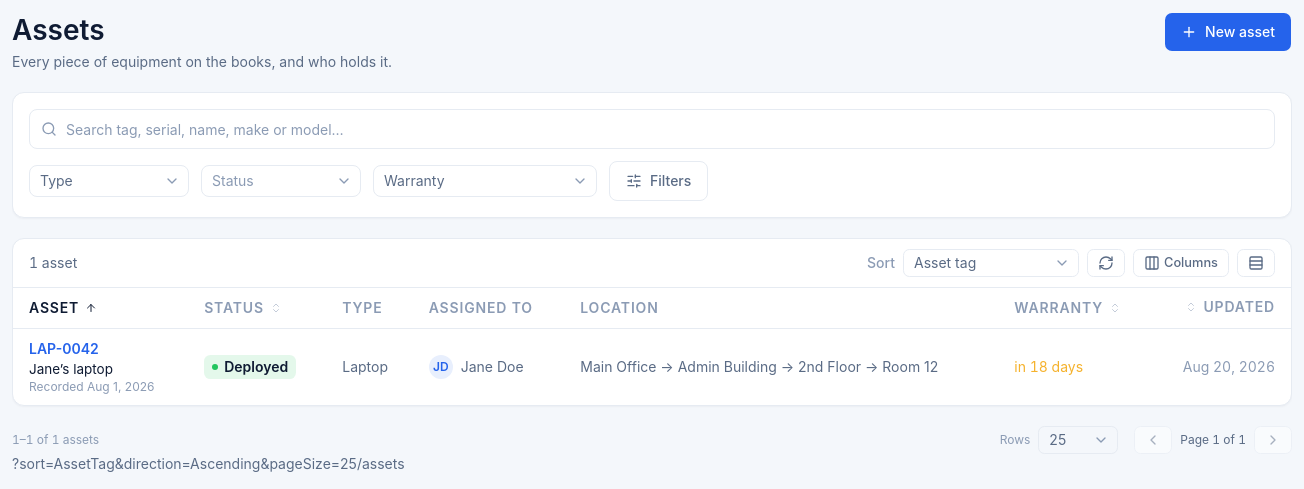
Test: AssetsPage › writes both warranty parameters from the one control
Check: the button "LAP-0042" is shown, box [29,338,99,358]
Click the dropdown labelled "Warranty" at (485, 181), box [373,165,597,197]
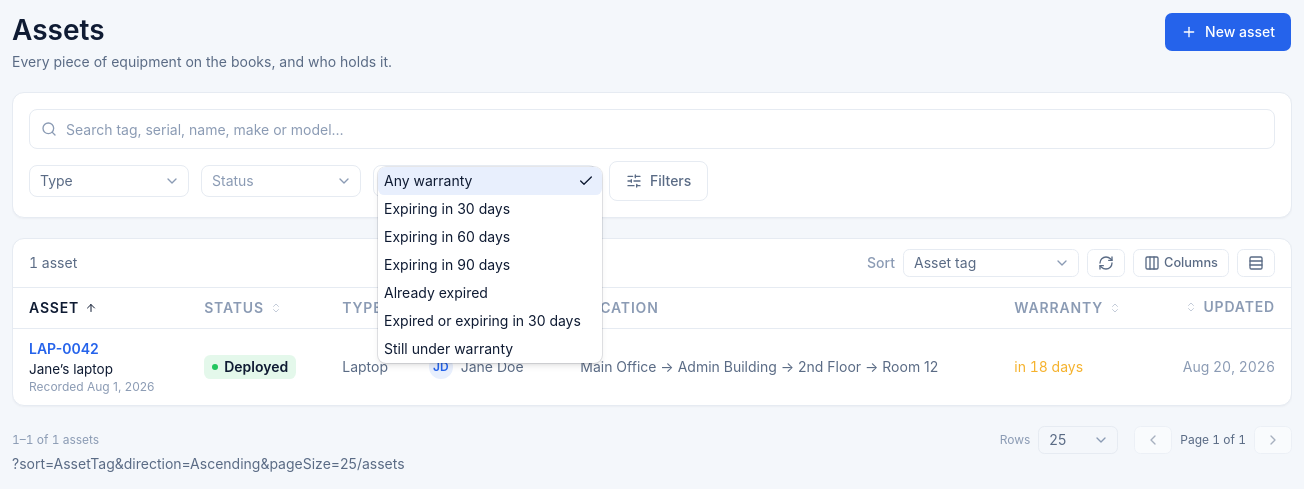
Click the option "Expired or expiring in 30 days" at (490, 321), box [378,307,602,335]
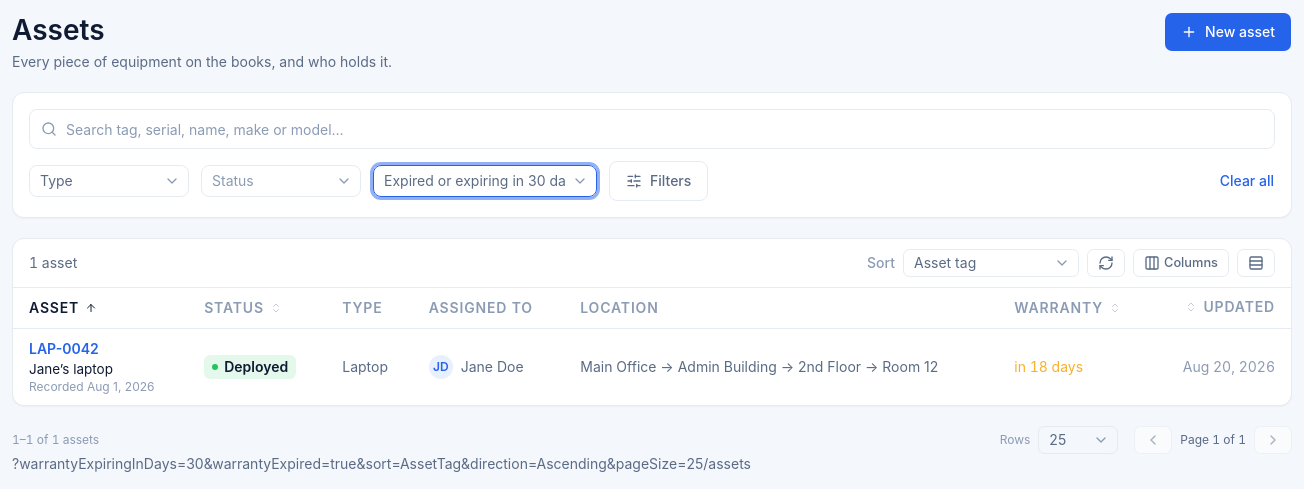
Check: the text with test id "address" shows "warrantyExpiringInDays=30", box [12,454,703,472]
Check: the text with test id "address" shows "warrantyExpired=true", box [12,454,703,472]
